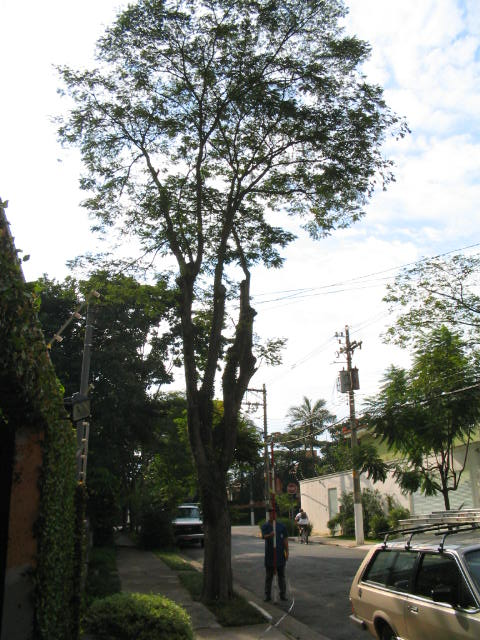crown: (47, 3, 412, 306)
stem: (185, 464, 243, 602)
stick: (265, 440, 280, 605)
tree: (46, 1, 415, 603)
